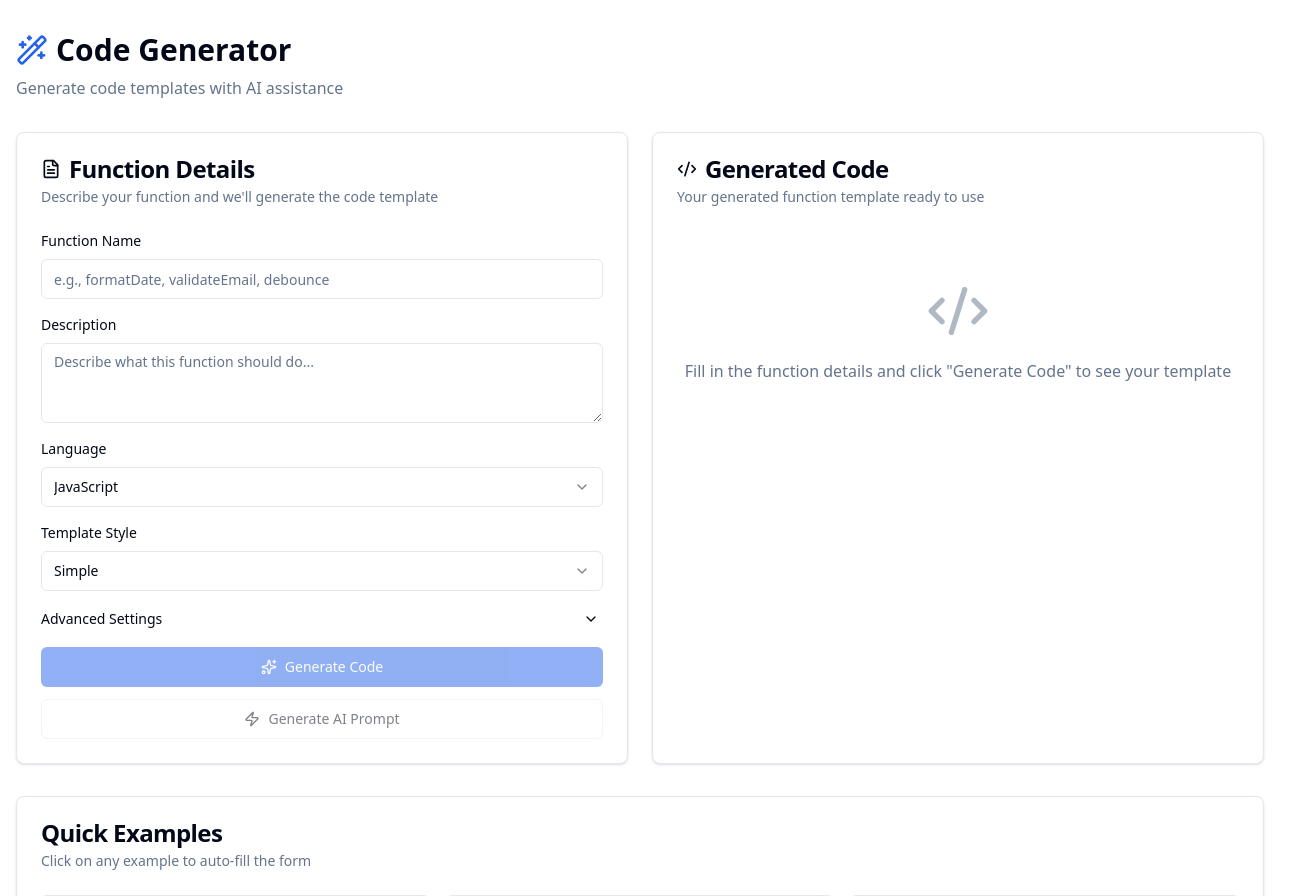
GeneratorPage › generates code when generate button is clicked
Type "testFunction" into the field with placeholder "e.g., formatDate, validateEmail, debounce" at (322, 279), box [41,259,603,299]
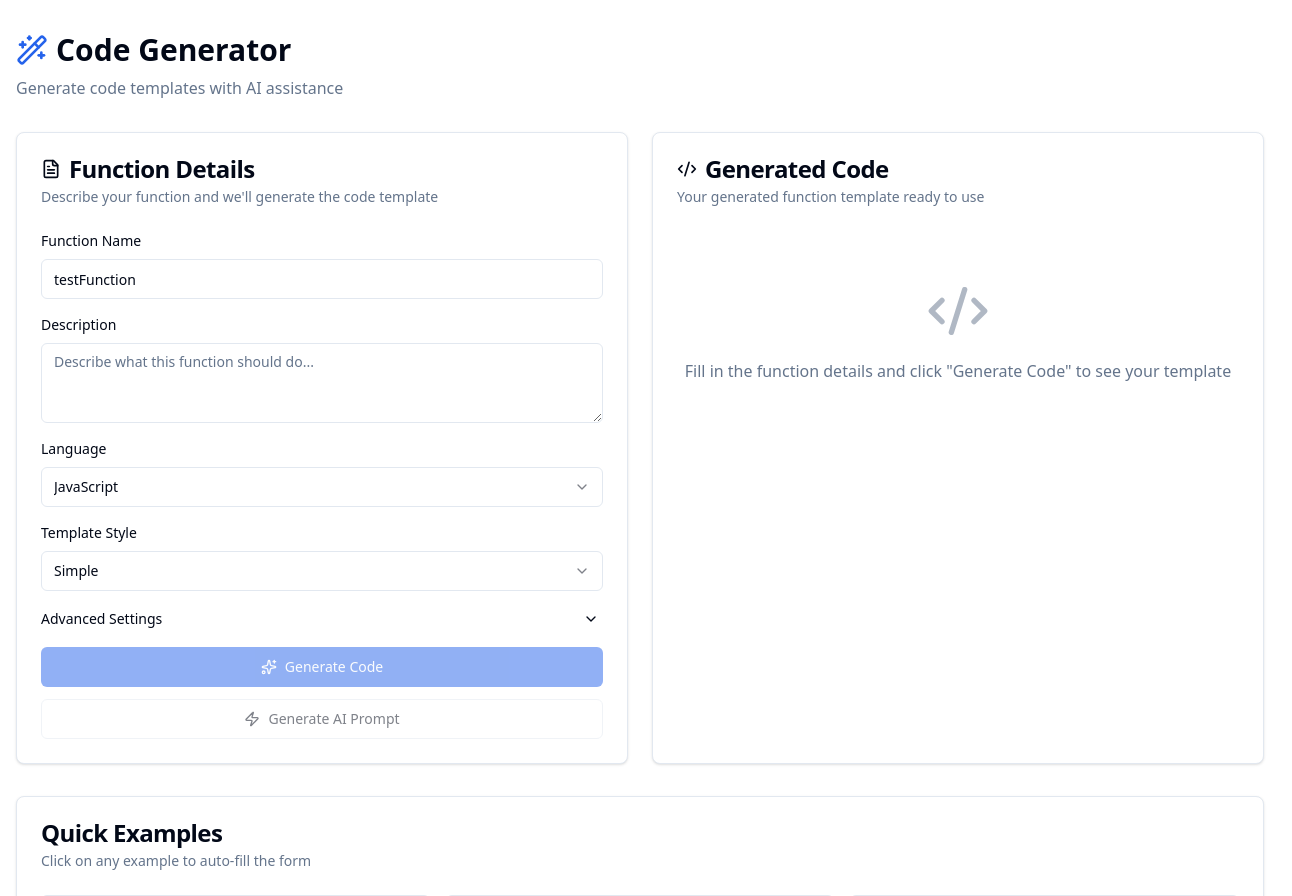
Type "A test function" into the text box with placeholder "Describe what this function should do..." at (322, 383), box [41,343,603,423]
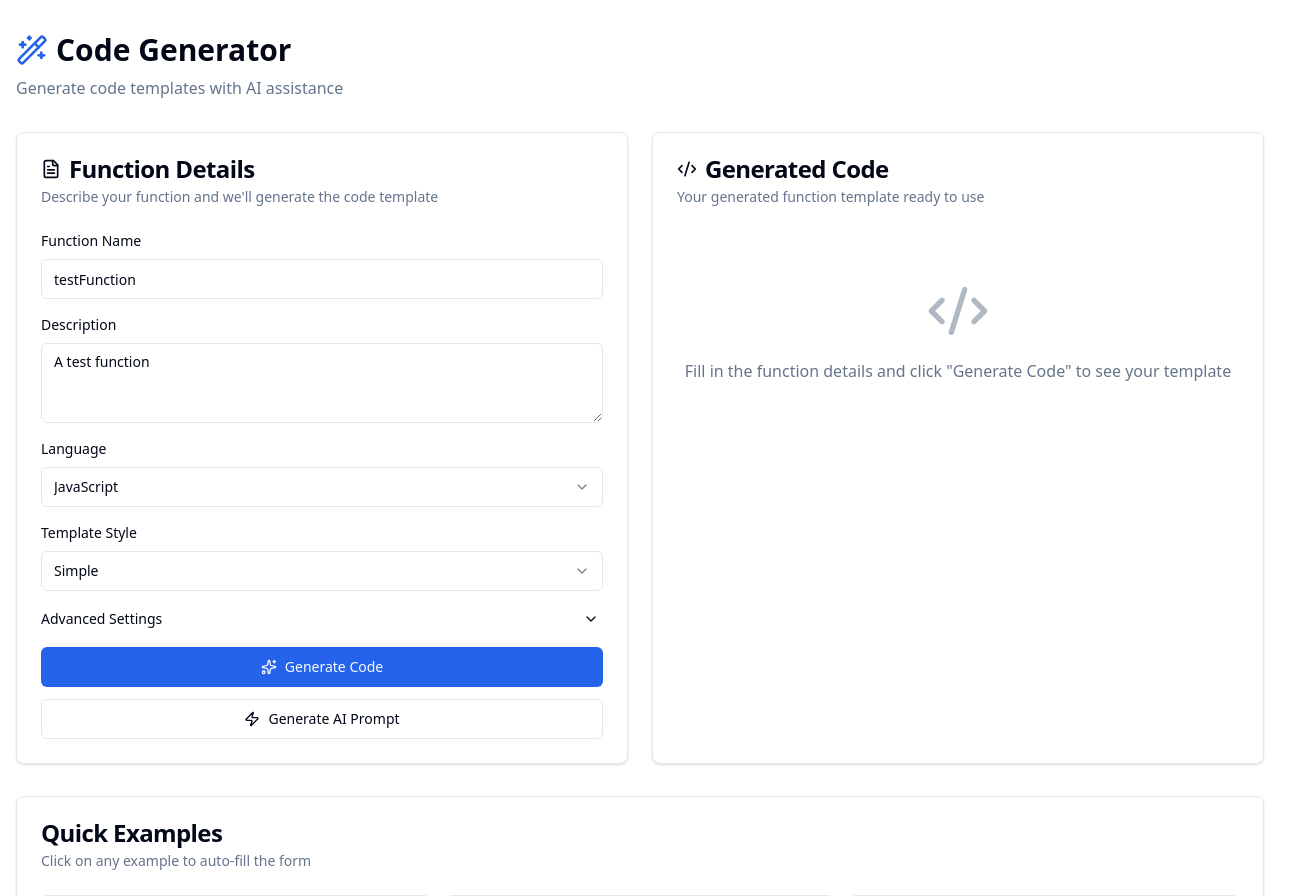
Click the button "Generate Code" at (322, 667), box [41,647,603,687]
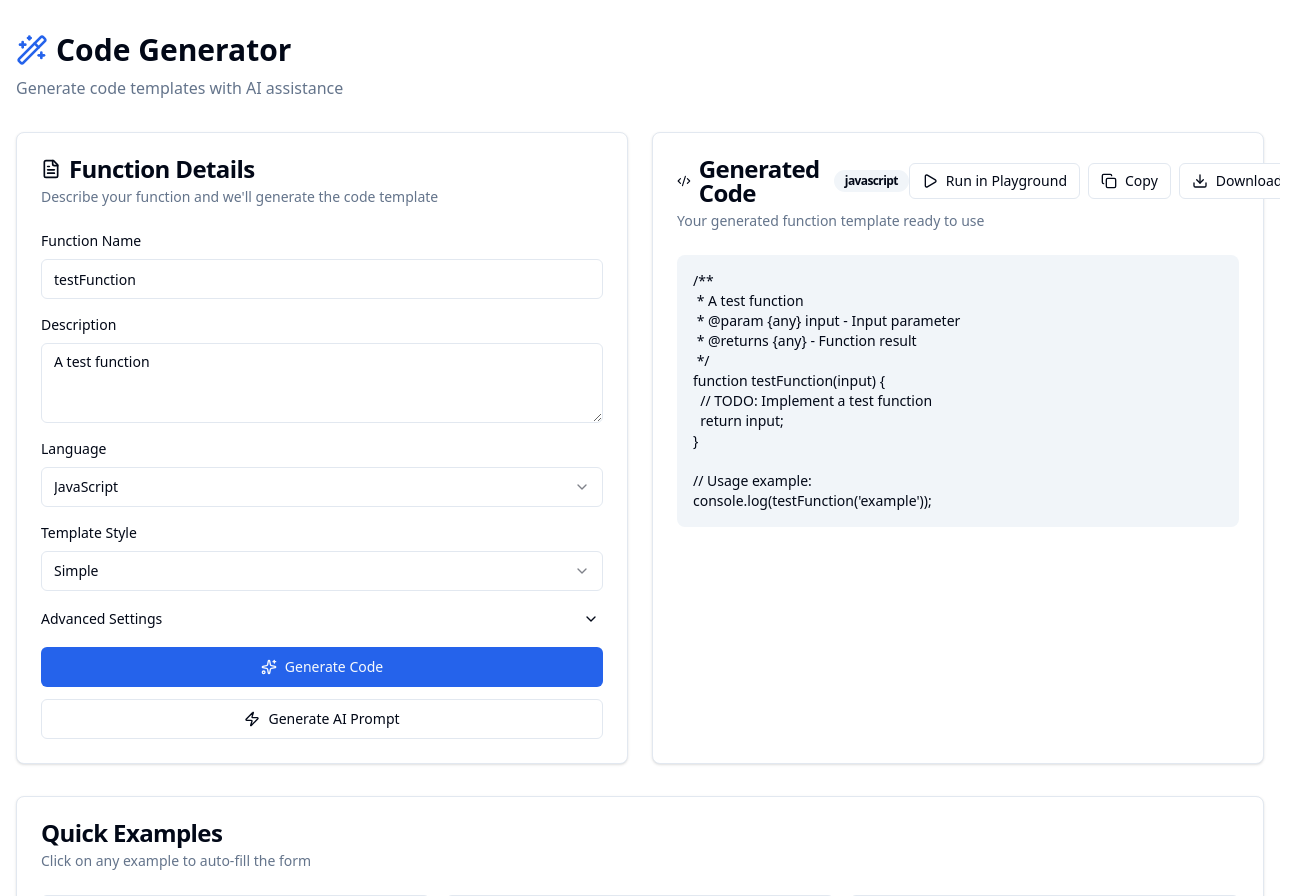
Result: the button "Run in Playground" is shown at [909,163,1080,199]
Result: the button "Copy" is shown at [1088,163,1171,199]
